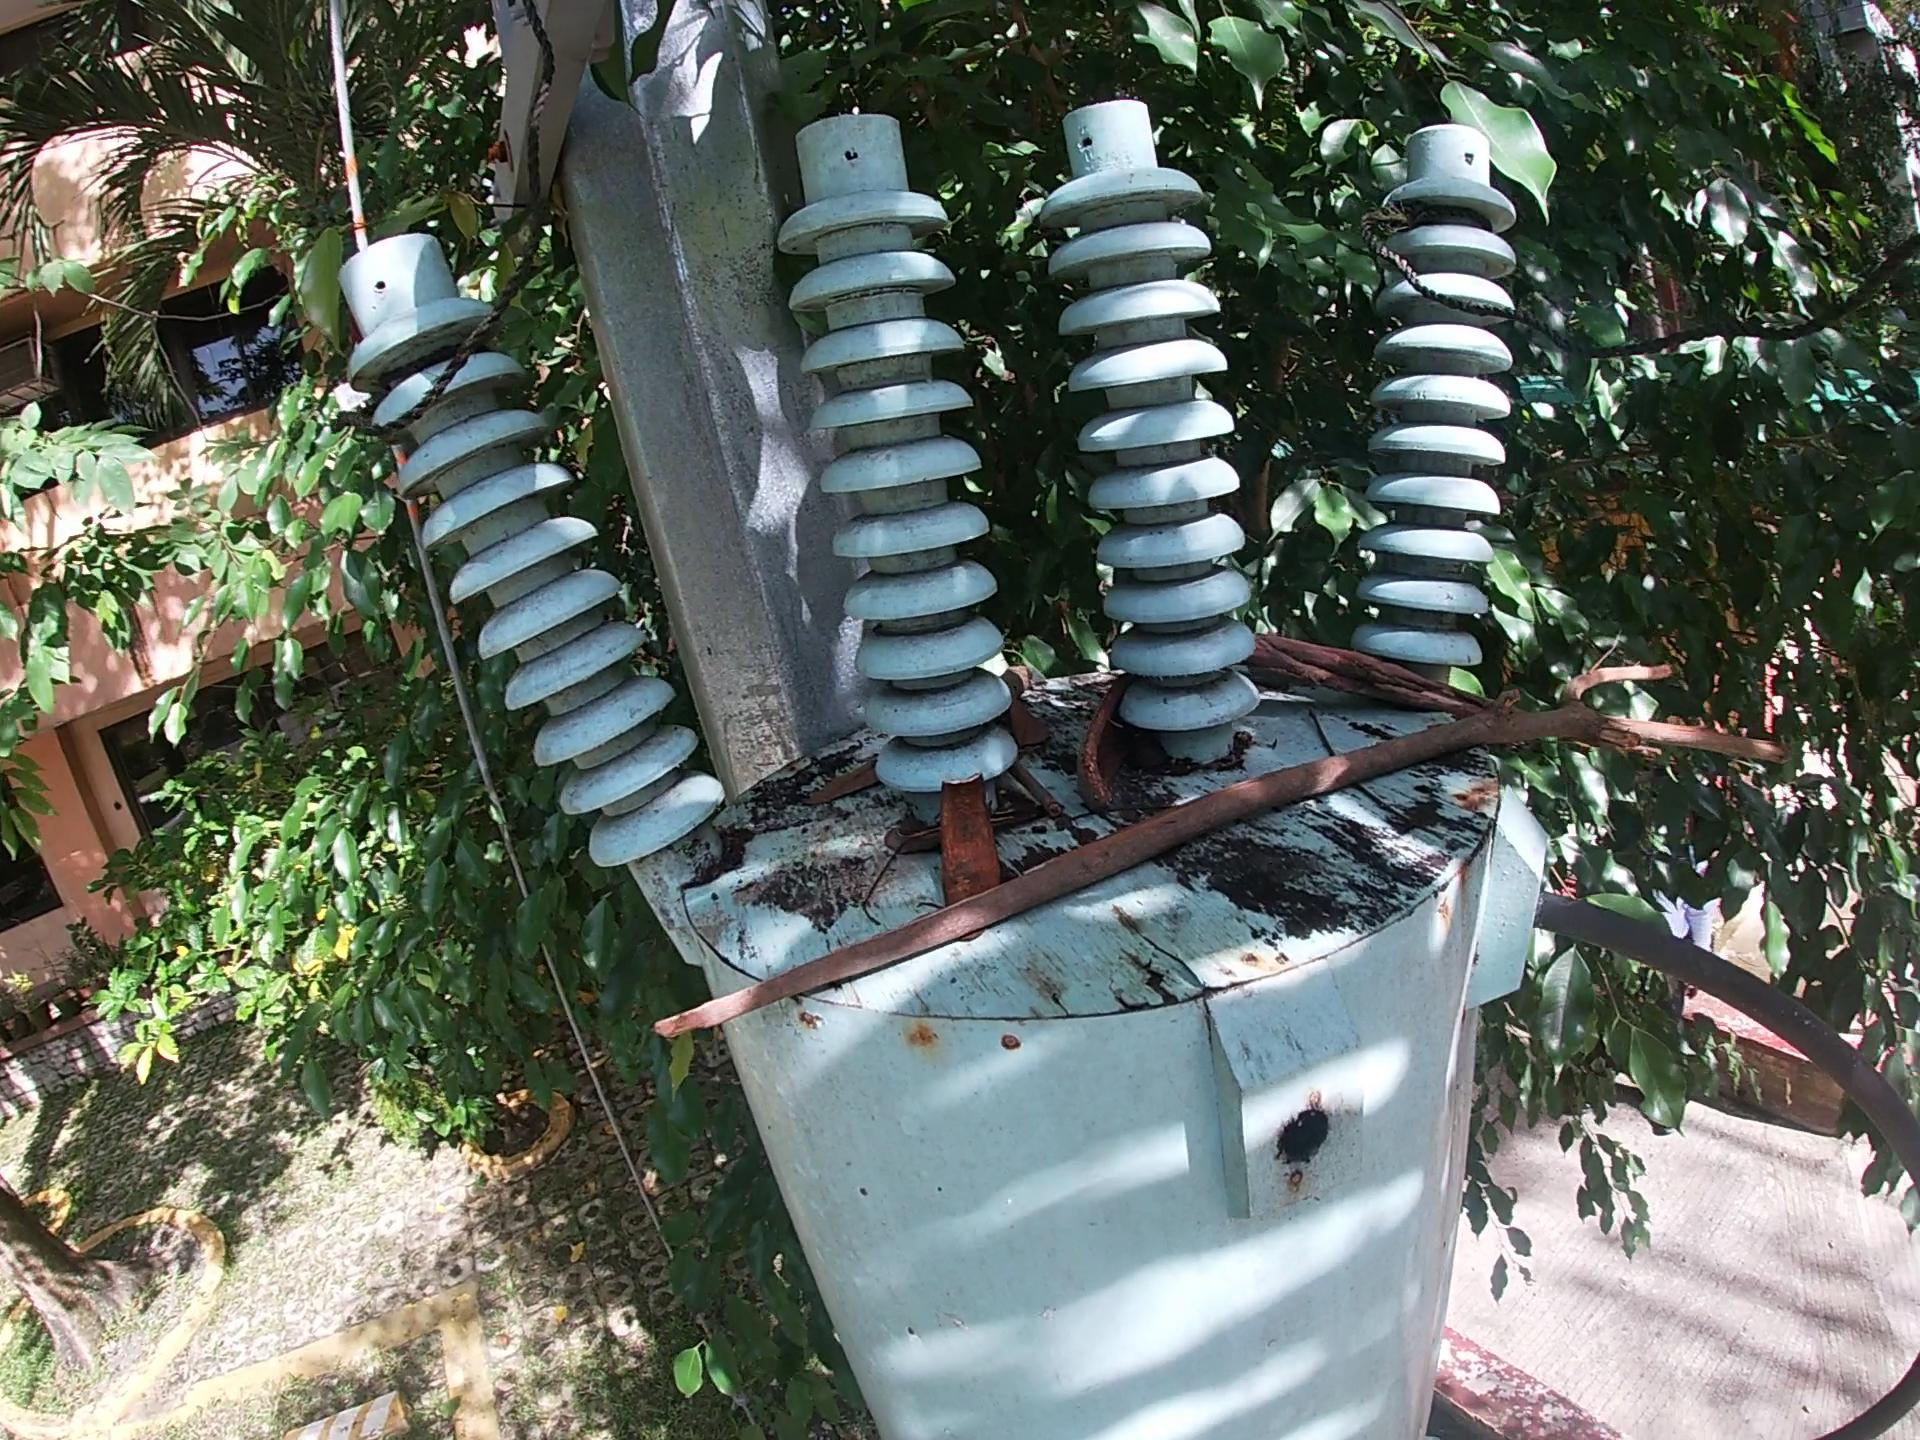leaf: (806, 759, 887, 812), (1002, 685, 1054, 756)
mahogany fruit: (931, 765, 1008, 917), (1072, 681, 1141, 827)
tree branch: (646, 652, 1808, 1051), (1232, 625, 1633, 758)
